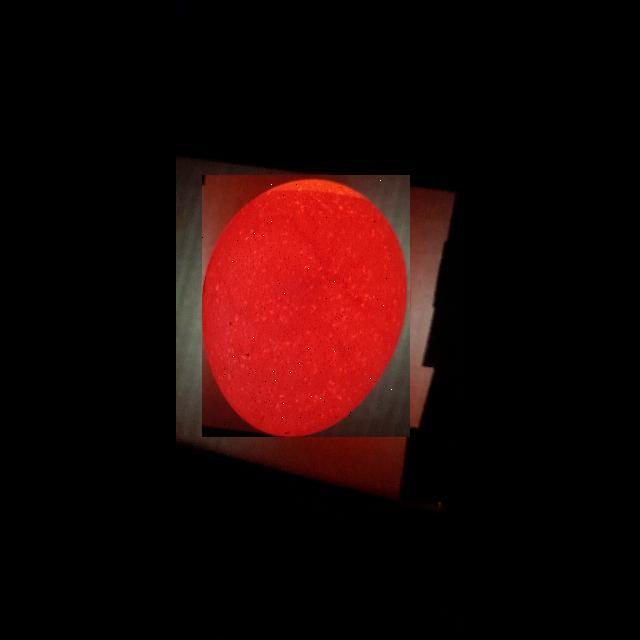Fertile: (202, 175, 410, 437)
